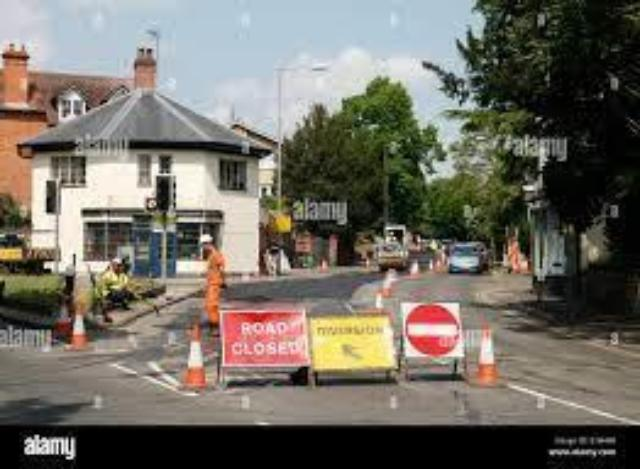B2: (404, 301, 462, 354)
